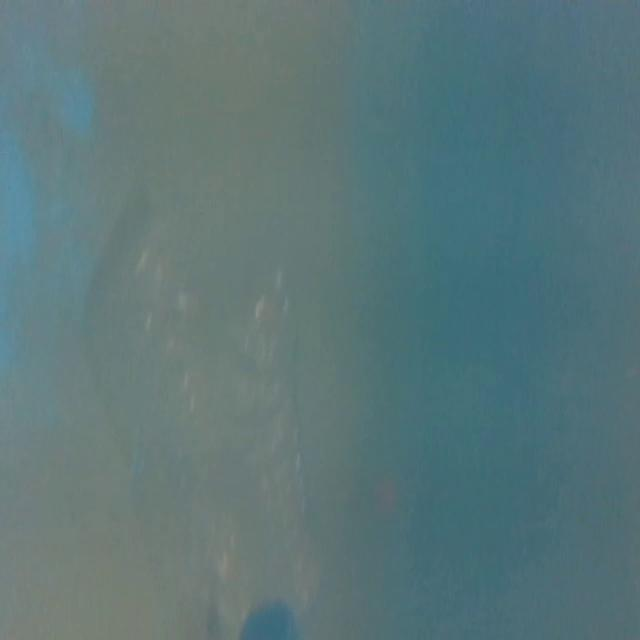plastic bottle: (112, 212, 354, 640)
